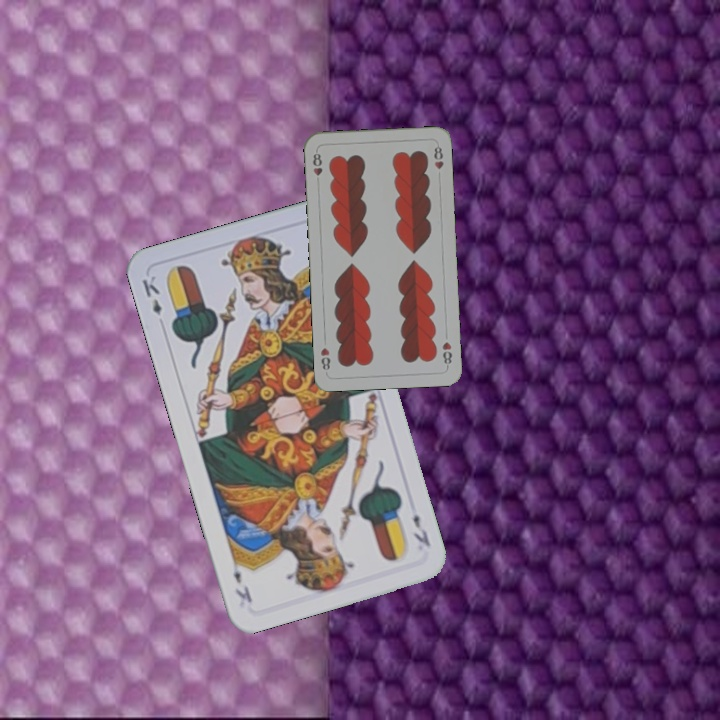EK: (138, 271, 165, 318), (409, 510, 433, 549)
H8: (308, 149, 325, 187), (438, 338, 454, 370)
